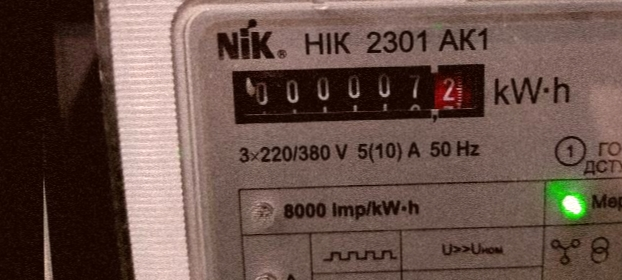0: (313, 73, 331, 100), (283, 75, 300, 103), (375, 69, 391, 98), (252, 78, 269, 105), (345, 71, 360, 98)
2: (440, 73, 456, 102)
7: (405, 70, 421, 99)
screen: (223, 53, 497, 128)
